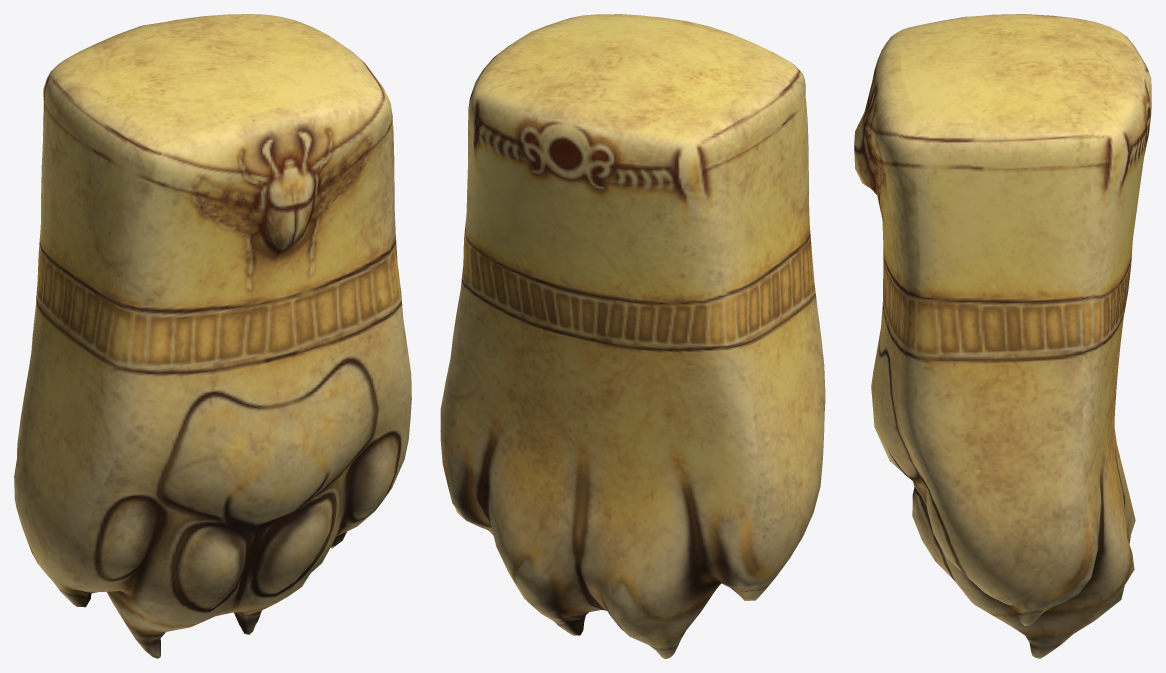
Rendered from SM_Patita.fbx.
The picture shows the model from 3 angles, left to right: view 1: azimuth 30°, elevation 25°; view 2: azimuth 150°, elevation 25°; view 3: azimuth 270°, elevation 25°; orthographic projection. The views are drawn at different scales.
Visible parts, largest first — view 1: SM_Patita; view 2: SM_Patita; view 3: SM_Patita.
Boxes of the visible parts, <box> form: SM_Patita: <box>14,14,411,658</box>; SM_Patita: <box>440,14,825,658</box>; SM_Patita: <box>854,14,1151,658</box>.
Size of the model in its own units: 68.25 by 111 by 51.54.
